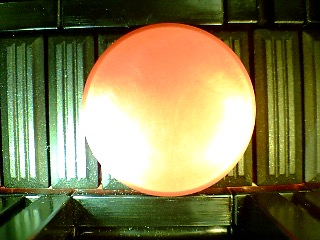BLANK: (81, 22, 257, 197)
